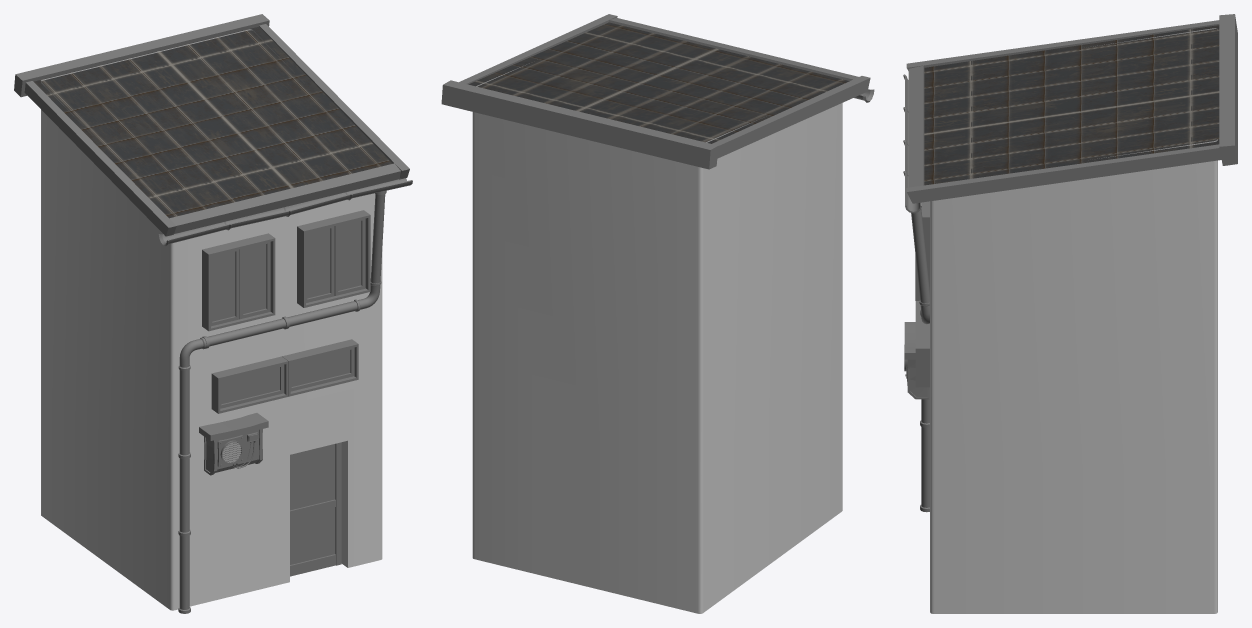
File: SM_house_japan_04.fbx
3 renders of one model, left to right at view 1: azimuth 30°, elevation 25°; view 2: azimuth 150°, elevation 25°; view 3: azimuth 270°, elevation 25°, orthographic. The views are drawn at different scales.
Visible parts, largest first — view 1: Object32344; view 2: Object32344; view 3: Object32344.
Boxes of the visible parts, x1=… form: Object32344: x1=14, y1=14, x2=412, y2=613; Object32344: x1=441, y1=14, x2=874, y2=613; Object32344: x1=903, y1=14, x2=1237, y2=613.
Bounding box in the file's own units: 205 × 350 × 221.
